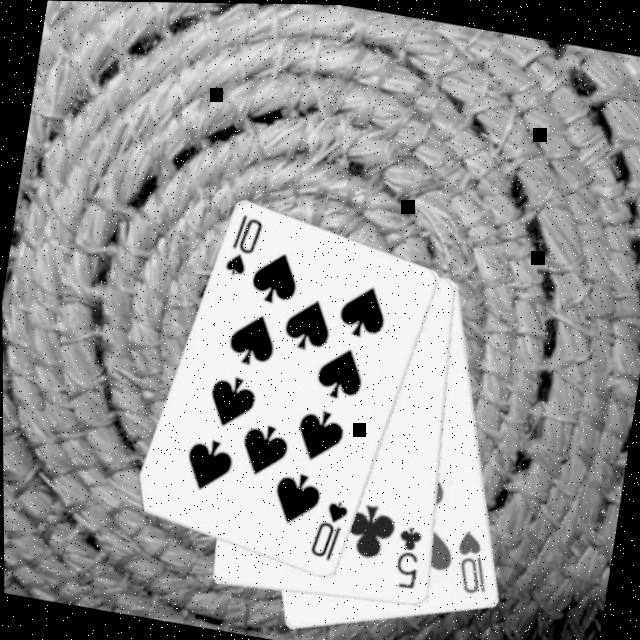10H: (446, 523, 496, 597)
10S: (218, 207, 266, 281), (303, 491, 350, 565)
5C: (386, 518, 426, 590)
